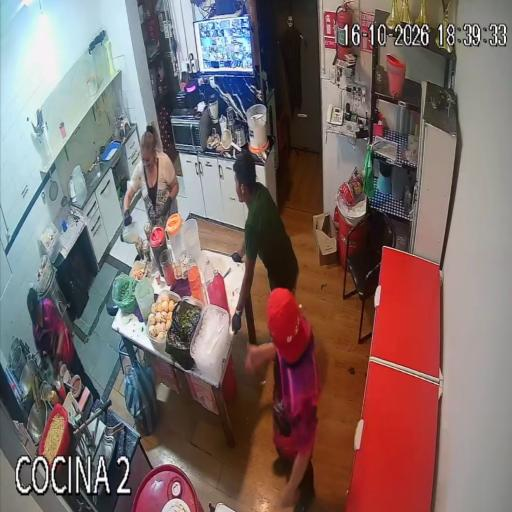Balde: (247, 104, 268, 150)
Cernidor: (221, 130, 241, 151)
Jarra1: (149, 227, 166, 275)
Jarra2: (165, 213, 186, 263)
Jarra3: (135, 277, 154, 320), (73, 165, 87, 205)
Jarra4: (183, 219, 201, 261)
Licuadora: (208, 94, 219, 135)
Licuadora2: (236, 123, 246, 147)
Microondas: (171, 111, 211, 152)
Persona1: (246, 288, 319, 512)
Persona2: (123, 125, 179, 225)
Persona3: (232, 153, 298, 334)
Persona5: (27, 288, 86, 376)
Taper: (130, 260, 148, 281)
Taper2: (146, 290, 180, 351)
Taper3: (165, 298, 202, 370)
Taper4: (191, 304, 229, 379)
